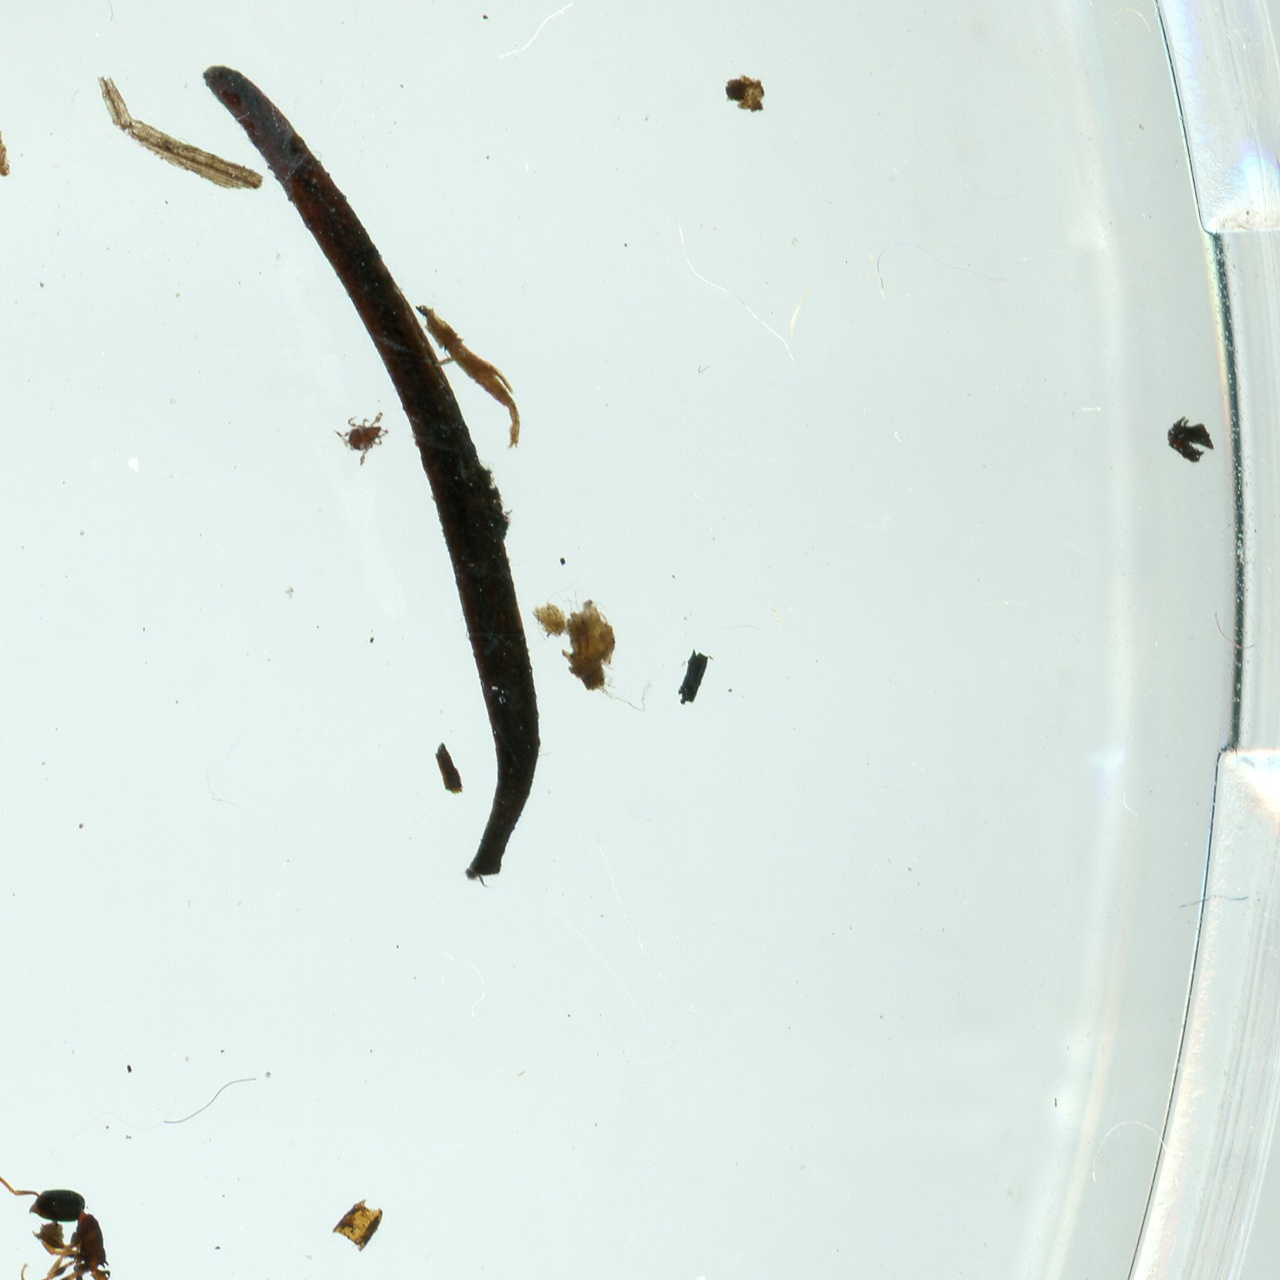arthropod: (0, 1160, 123, 1280), (327, 395, 402, 470)
